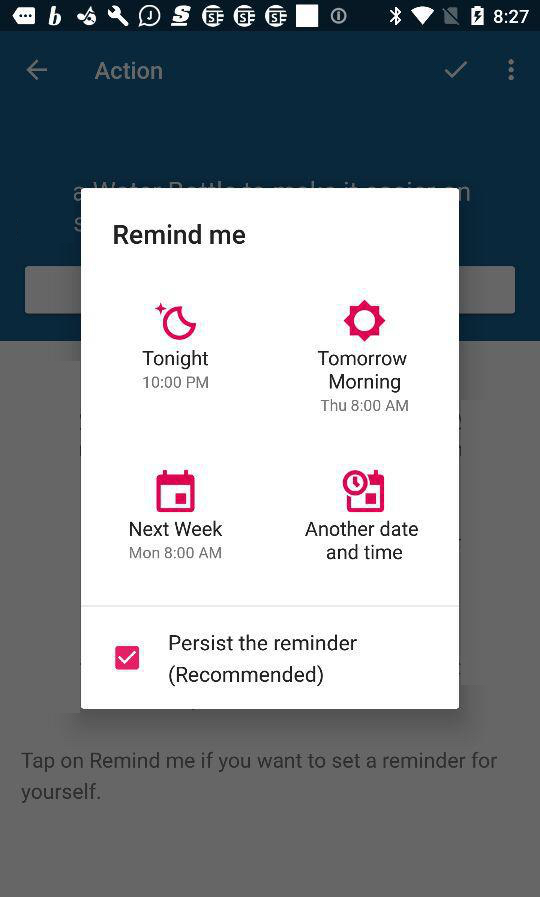CheckedTextView: (115, 634, 359, 687)
Icon: (342, 470, 385, 513), (156, 470, 196, 513), (26, 60, 49, 82), (444, 62, 467, 79), (508, 58, 515, 82)
Image: (343, 300, 386, 343), (155, 303, 197, 341)
Modal: (81, 189, 459, 710)
Text: (21, 752, 498, 805), (169, 634, 358, 687), (305, 520, 419, 561), (318, 351, 408, 394), (114, 224, 246, 246), (130, 520, 224, 537), (142, 350, 209, 371), (95, 62, 164, 81), (130, 546, 223, 560), (321, 399, 409, 413), (143, 376, 209, 390)
UpperTaskBar: (1, 1, 540, 33)
